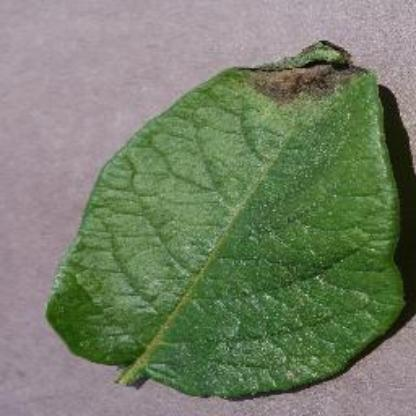Late-Blight: (46, 34, 410, 400)
